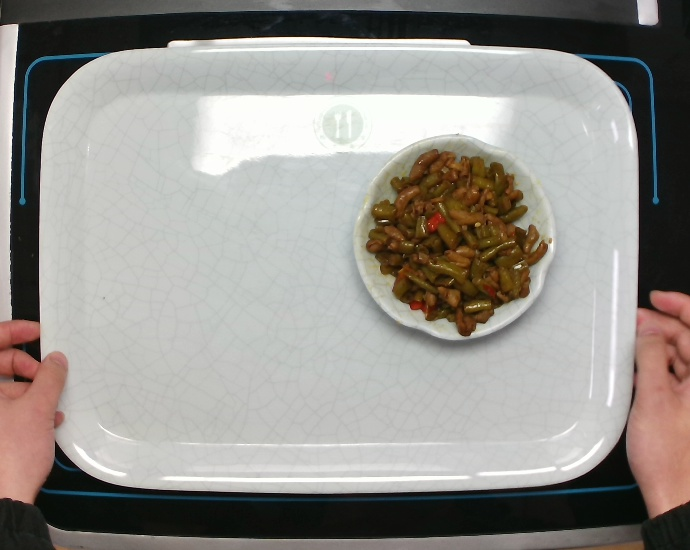JYsf-Ao_Yuan_Wan: (340, 130, 560, 348)
